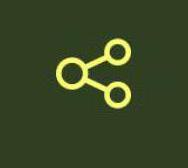ImgButton: (1, 1, 187, 167)
